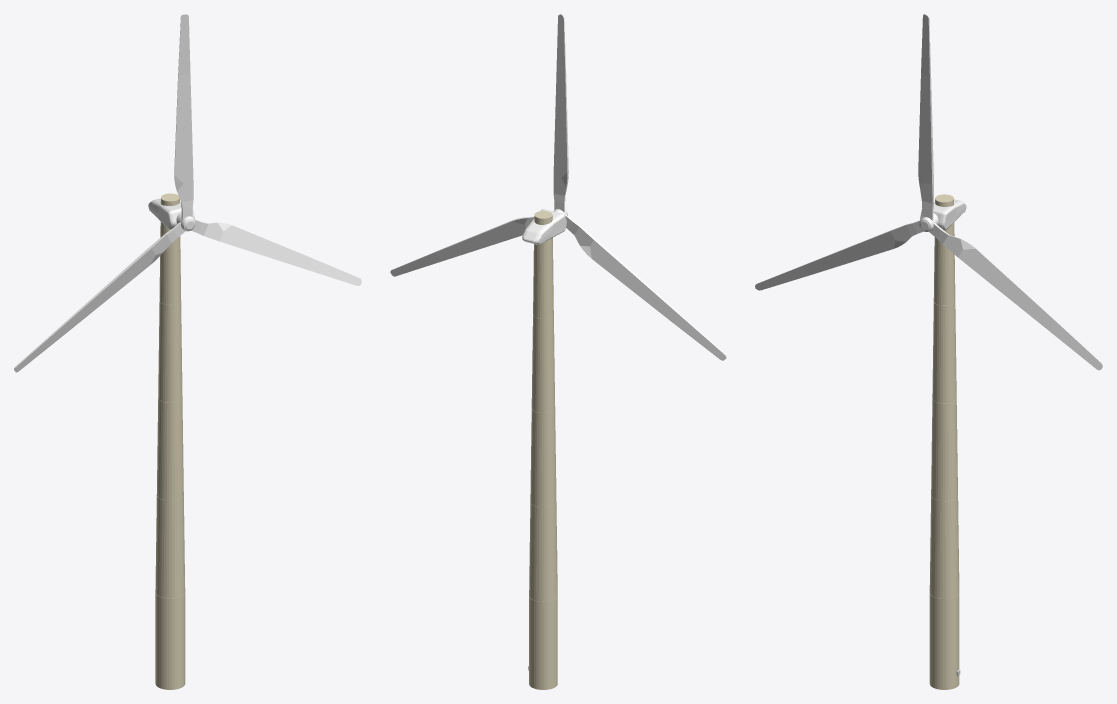
Rendered from Wind-Turbine_01.fbx.
3 renders of one model, left to right at view 1: azimuth 30°, elevation 25°; view 2: azimuth 150°, elevation 25°; view 3: azimuth 330°, elevation 25°, orthographic. The views are drawn at different scales.
Visible parts, largest first — view 1: Body, Blade-1, Blade-3, Blade-2, Rotor-Socket; view 2: Body, Blade-2, Blade-1, Blade-3, Rotor-Socket; view 3: Body, Blade-3, Blade-1, Blade-2, Rotor-Socket.
Boxes of the visible parts, x1=… form: Body: x1=155, y1=193, x2=185, y2=689; Blade-1: x1=174, y1=14, x2=193, y2=219; Blade-3: x1=191, y1=219, x2=361, y2=285; Blade-2: x1=14, y1=222, x2=185, y2=372; Rotor-Socket: x1=148, y1=198, x2=194, y2=229; Body: x1=529, y1=211, x2=557, y2=689; Blade-2: x1=565, y1=215, x2=726, y2=360; Blade-1: x1=553, y1=14, x2=568, y2=212; Blade-3: x1=390, y1=216, x2=534, y2=276; Rotor-Socket: x1=522, y1=209, x2=566, y2=244; Body: x1=929, y1=194, x2=959, y2=689; Blade-3: x1=929, y1=223, x2=1102, y2=370; Blade-1: x1=918, y1=14, x2=933, y2=220; Blade-2: x1=755, y1=220, x2=923, y2=290; Rotor-Socket: x1=920, y1=199, x2=966, y2=230.
Size of the model in its own units: 1604 by 3009 by 280.
